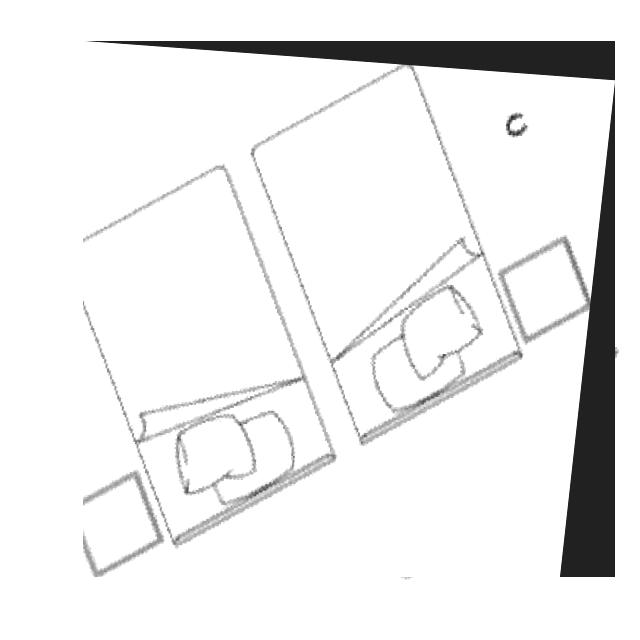bed: (83, 41, 615, 577)
